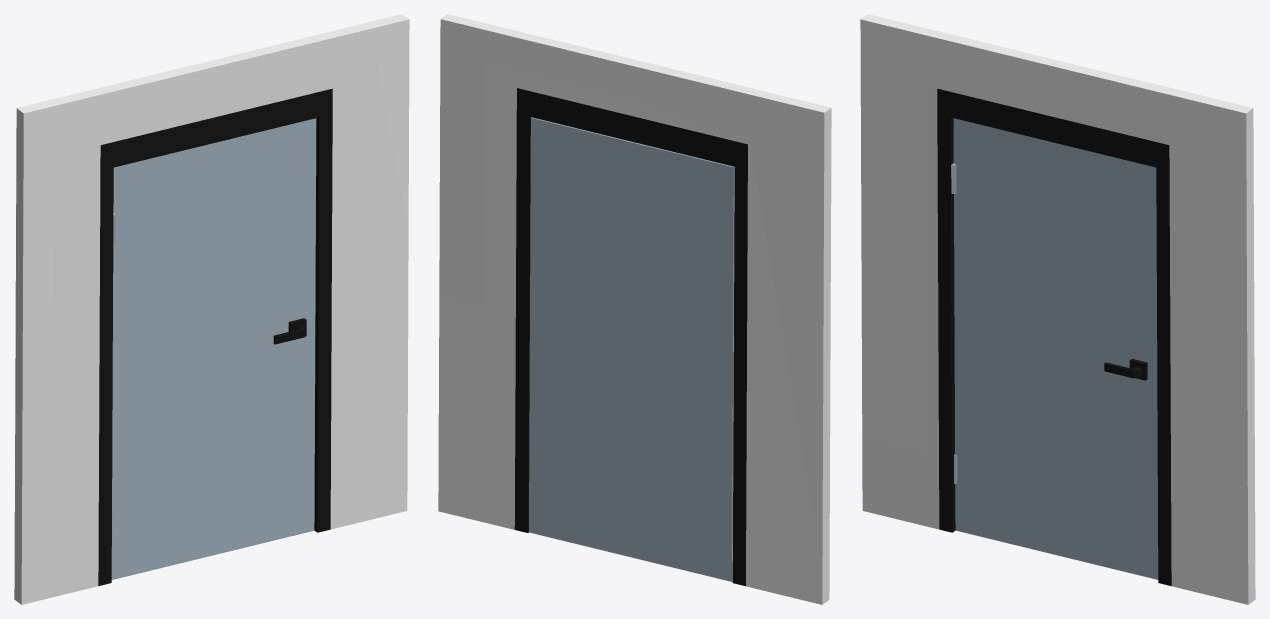
Rendered from door.fbx.
3 renders of one model, left to right at view 1: azimuth 30°, elevation 25°; view 2: azimuth 150°, elevation 25°; view 3: azimuth 330°, elevation 25°, orthographic.
Parts seen in each view (by area): view 1: wall, door_metal, door_frame_metal; view 2: wall, door_metal, door_frame_metal; view 3: wall, door_metal, door_frame_metal.
Part boxes in pixels (left/top/right/bottom): wall: left=14, top=14, right=409, bottom=604; door_metal: left=111, top=118, right=316, bottom=579; door_frame_metal: left=98, top=88, right=332, bottom=586; wall: left=438, top=14, right=831, bottom=604; door_metal: left=529, top=117, right=734, bottom=581; door_frame_metal: left=514, top=88, right=747, bottom=586; wall: left=860, top=14, right=1255, bottom=604; door_metal: left=953, top=118, right=1158, bottom=579; door_frame_metal: left=937, top=88, right=1171, bottom=586.
Size of the model in its own units: 3.5 by 4.28 by 0.2095.
Materials: 1 (1 with a texture image).
